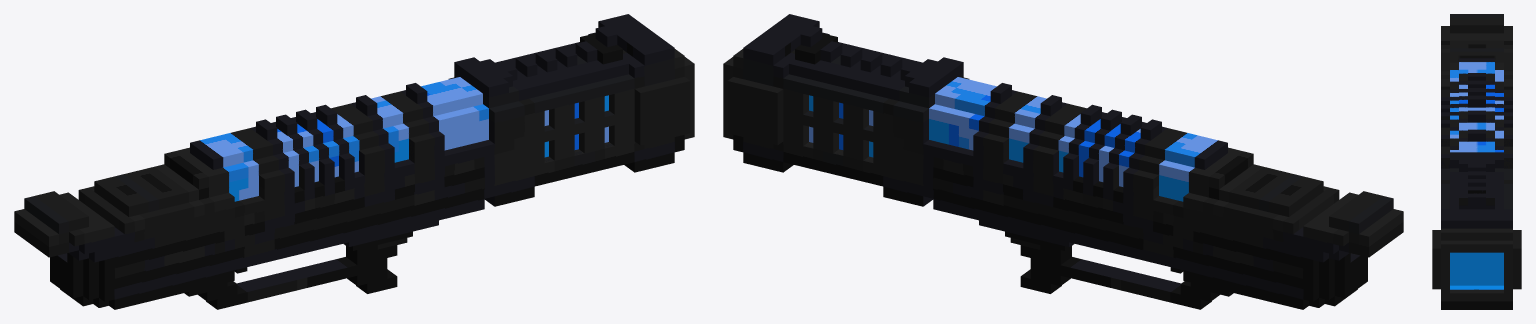
Rendered from plasmagun3.obj.
The picture shows the model from 3 angles, left to right: view 1: azimuth 30°, elevation 25°; view 2: azimuth 150°, elevation 25°; view 3: azimuth 270°, elevation 25°; orthographic projection. The views are drawn at different scales.
Visible parts, largest first — view 1: plasmagun3-optimized_plasmagun3.001; view 2: plasmagun3-optimized_plasmagun3.001; view 3: plasmagun3-optimized_plasmagun3.001.
Boxes of the visible parts, x1,y1,x2,y2 form: plasmagun3-optimized_plasmagun3.001: (14, 14, 694, 309); plasmagun3-optimized_plasmagun3.001: (723, 14, 1403, 309); plasmagun3-optimized_plasmagun3.001: (1432, 14, 1521, 309).
Size of the model in its own units: 122 by 36.1 by 19.
